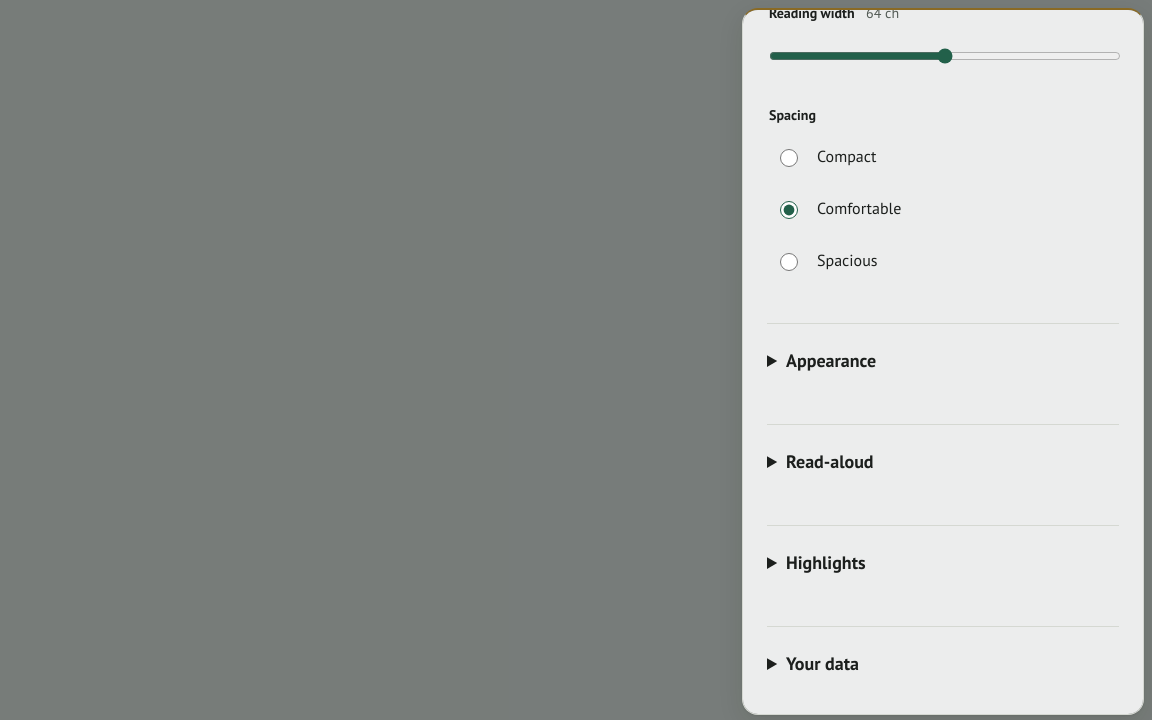
Scenario: SettingsPanel — structure + aria (D2-01) › renders every Typeface/Spacing/Theme radio option verbatim
(page scrolled)
What coordinates should you click on to do the following:
click the heading "Appearance"
I would click on:
 (831, 361)
Its box is top-left (786, 349), bottom-right (876, 372).
(page scrolled)
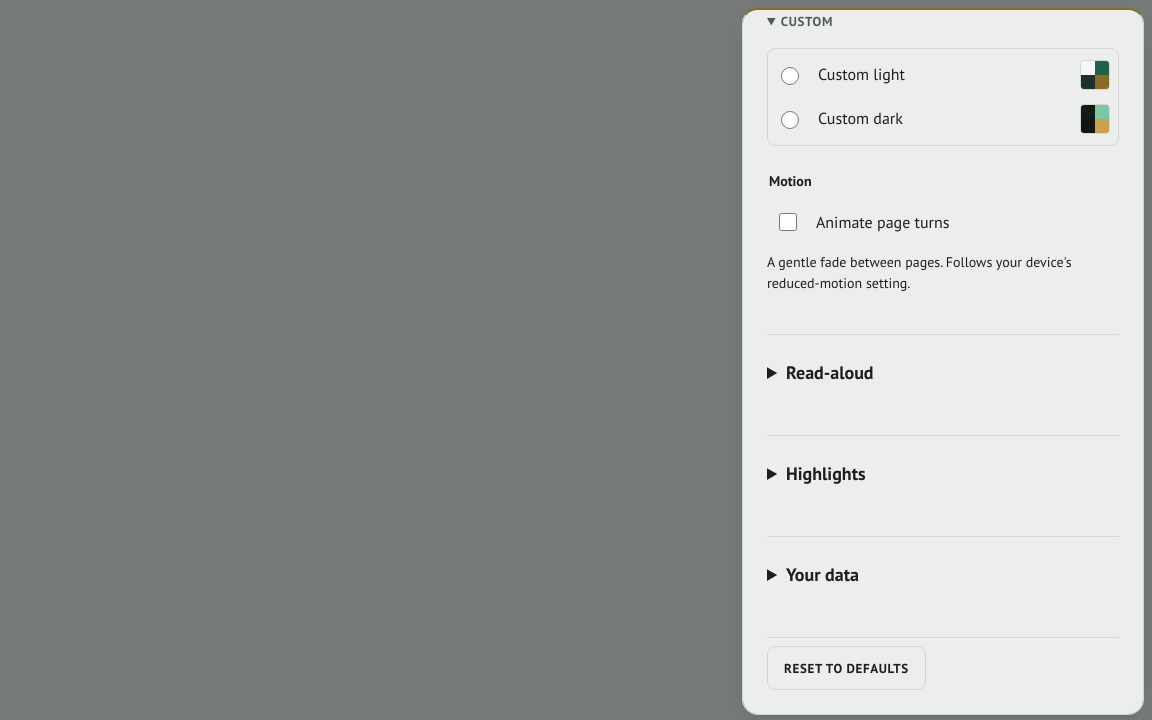
What coordinates should you click on to do the following:
click the heading "Read-aloud"
I would click on:
 (830, 372)
Its box is top-left (786, 361), bottom-right (874, 384).
(page scrolled)
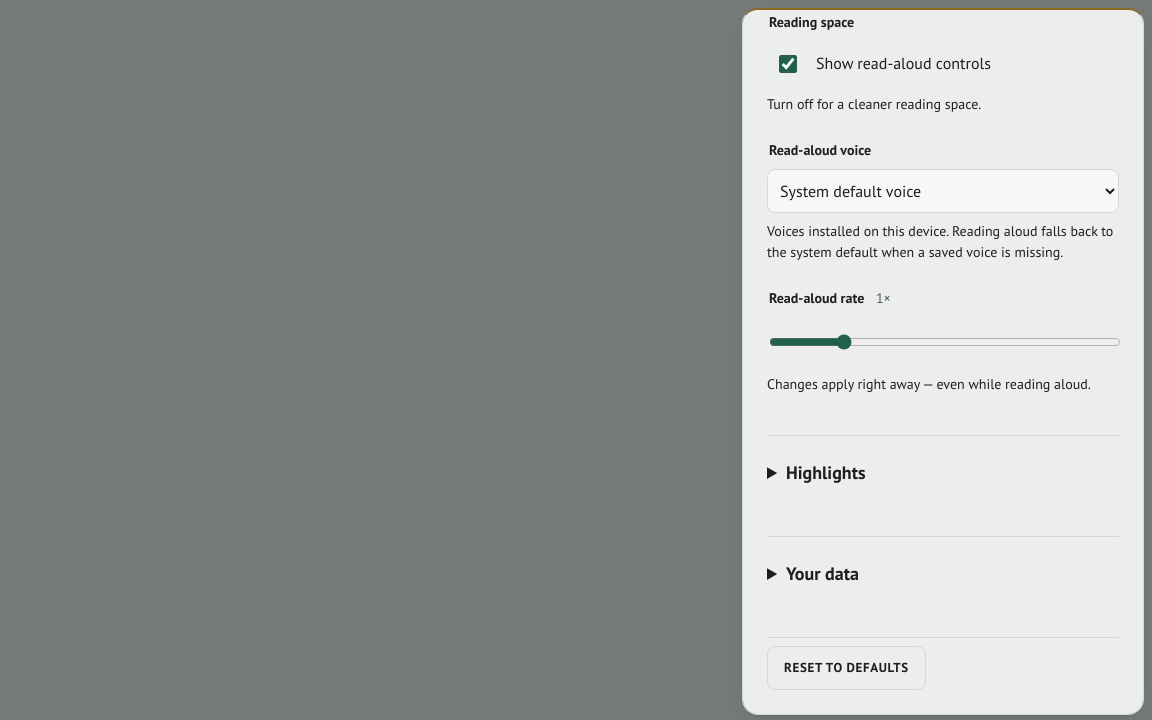
What coordinates should you click on to do the following:
click the heading "Highlights"
I would click on:
 (826, 473)
Its box is top-left (786, 461), bottom-right (866, 484).
(page scrolled)
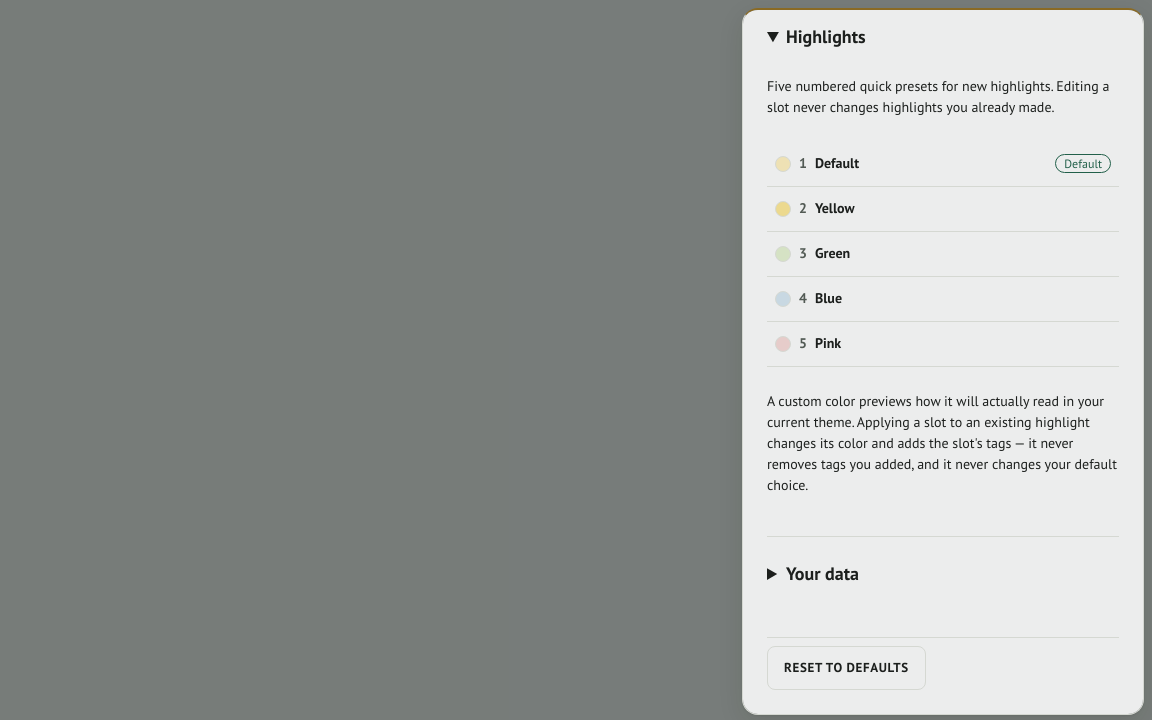
What coordinates should you click on to do the following:
click the heading "Your data"
I would click on:
 (822, 574)
Its box is top-left (786, 562), bottom-right (859, 585).
(page scrolled)
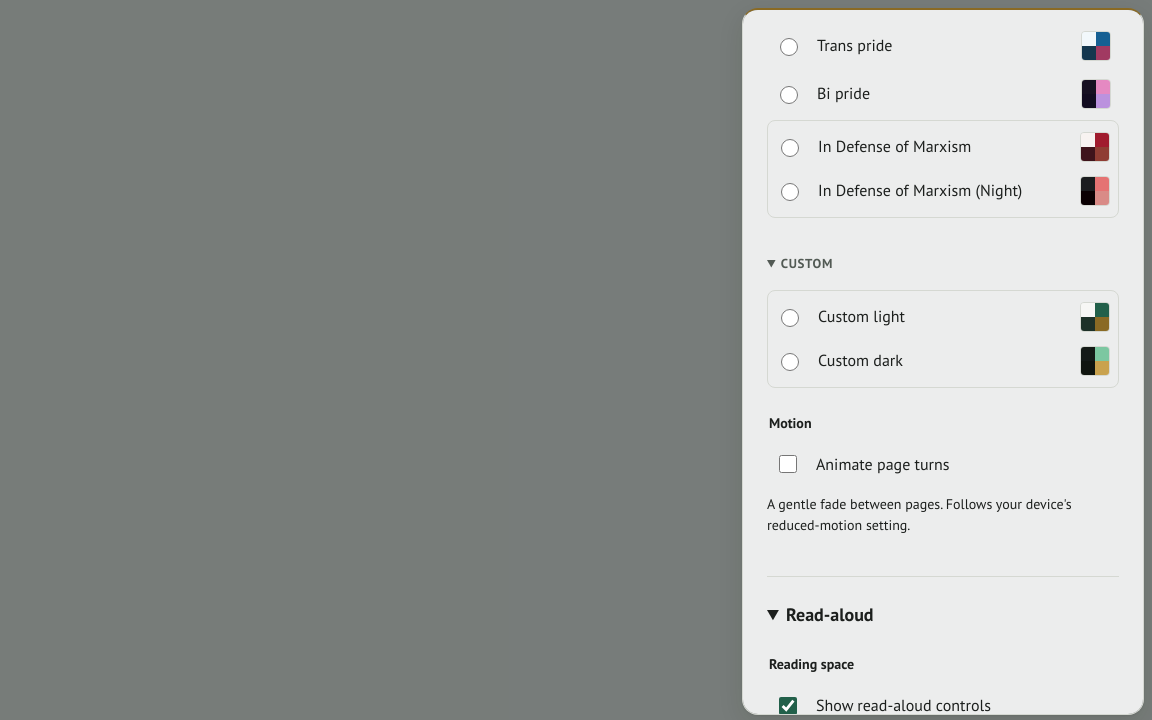
Now the radio button labelled "Custom light" is shown, box top-left (781, 310), bottom-right (799, 328)
Now the radio button labelled "Custom dark" is shown, box top-left (781, 354), bottom-right (799, 372)
